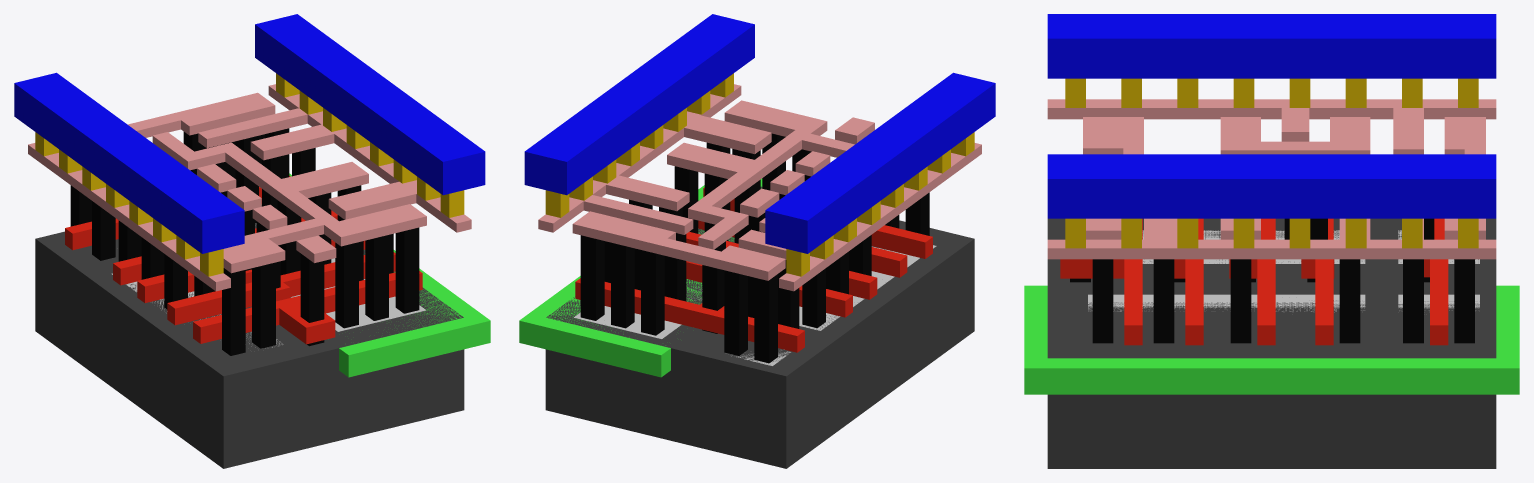
The model's file is sky130_fd_sc_hd__o211a_1.obj.
3 views of the same model, side by side, from view 1: azimuth 30°, elevation 25°; view 2: azimuth 150°, elevation 25°; view 3: azimuth 270°, elevation 25° (orthographic). The views are drawn at different scales.
Parts seen in each view (by area): view 1: subs, metal1, li, licon, poly, nwell, mcon, tap; view 2: subs, metal1, li, licon, poly, nwell, mcon, diff, tap; view 3: subs, metal1, li, nwell, licon, poly, mcon, tap, diff.
Boxes of the visible parts, <box> form: subs: <box>35,205,464,468</box>; metal1: <box>14,14,485,253</box>; li: <box>28,84,471,291</box>; licon: <box>70,128,419,355</box>; poly: <box>65,176,422,344</box>; nwell: <box>289,173,490,377</box>; mcon: <box>35,73,464,276</box>; tap: <box>291,258,425,331</box>; subs: <box>545,186,974,468</box>; metal1: <box>524,14,995,253</box>; li: <box>538,84,981,291</box>; licon: <box>580,133,929,363</box>; poly: <box>575,187,932,352</box>; nwell: <box>519,178,762,377</box>; mcon: <box>545,73,974,276</box>; diff: <box>731,245,936,365</box>; tap: <box>574,233,702,338</box>; subs: <box>1047,218,1496,468</box>; metal1: <box>1047,14,1496,218</box>; li: <box>1047,99,1496,259</box>; nwell: <box>1024,285,1519,394</box>; licon: <box>1070,218,1474,343</box>; poly: <box>1060,218,1448,345</box>; mcon: <box>1065,78,1478,248</box>; tap: <box>1088,294,1479,312</box>; diff: <box>1142,230,1479,263</box>.
Bounding box in the file's own units: 3.2 × 2.74 × 4.06.
